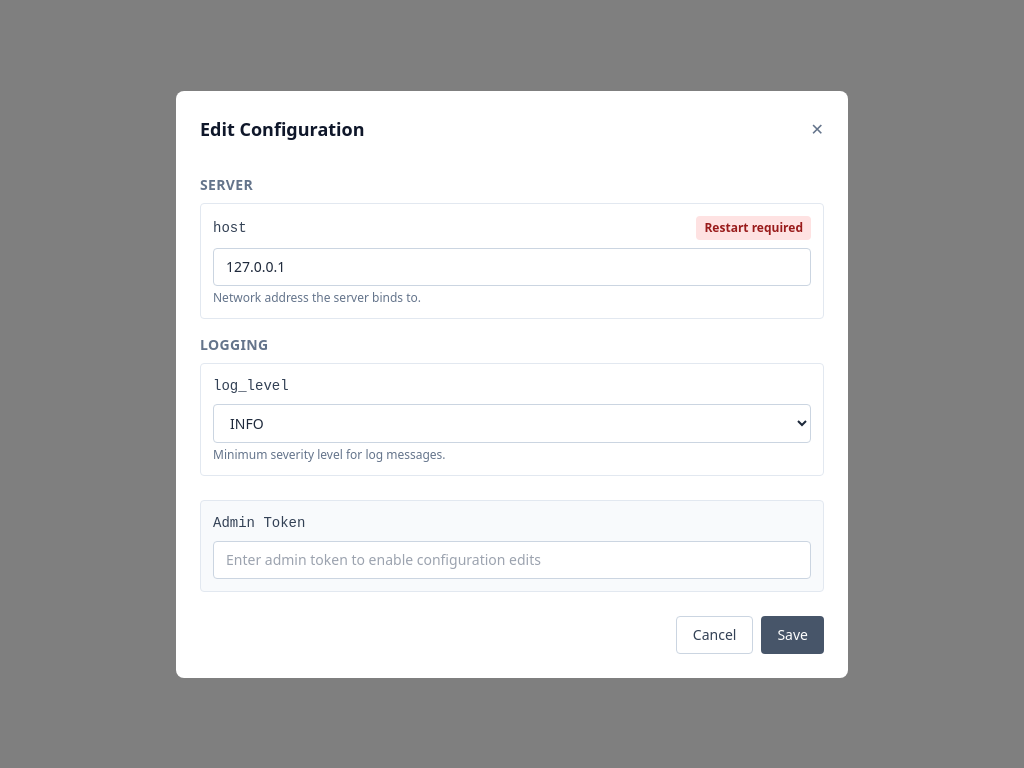
Test: ConfigModal › saves the full field map with the admin token header, and retains values without refetching
Replace the text in the field showing "127.0.0.1" with "10.0.0.9" at (512, 266), box top-left (213, 248), bottom-right (811, 286)
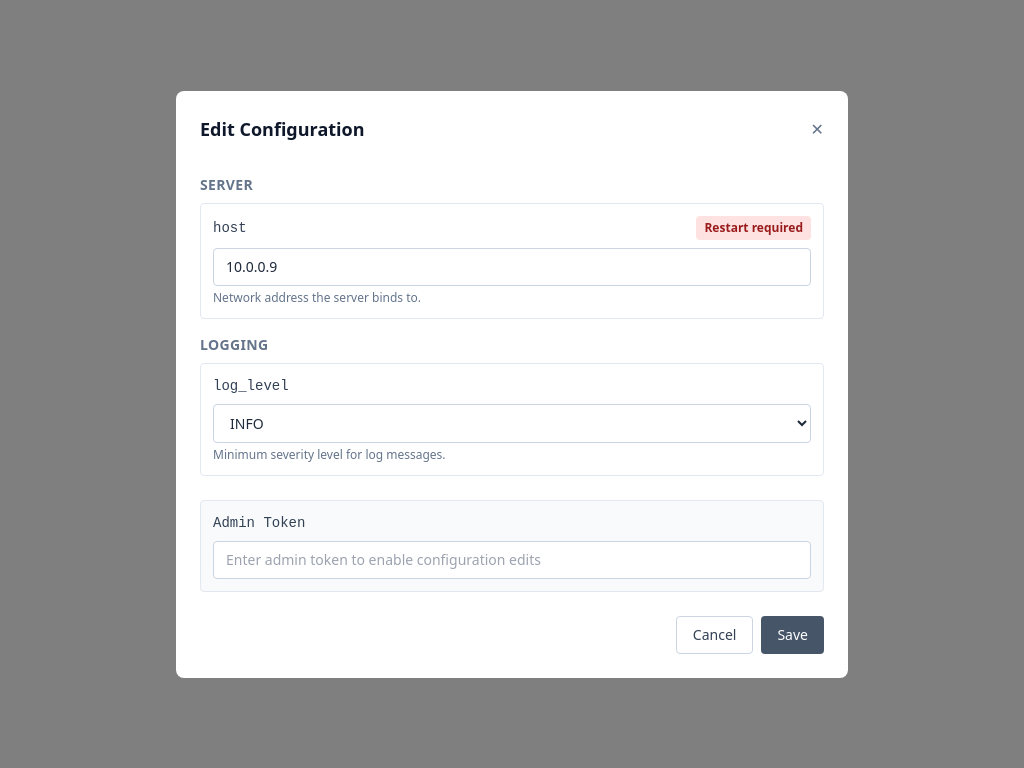
Type "sekret" into the password field with placeholder "Enter admin token to enable configuration edits" at (512, 560), box top-left (213, 540), bottom-right (811, 578)
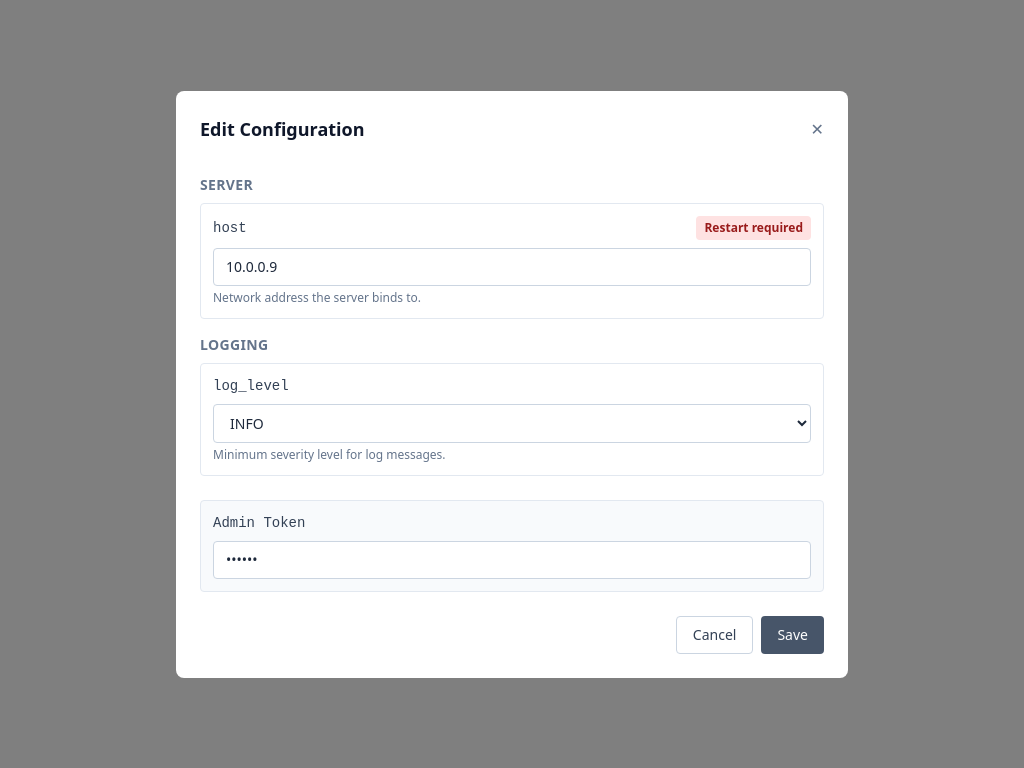
Click the button "Save" at (793, 634), box top-left (761, 616), bottom-right (824, 654)
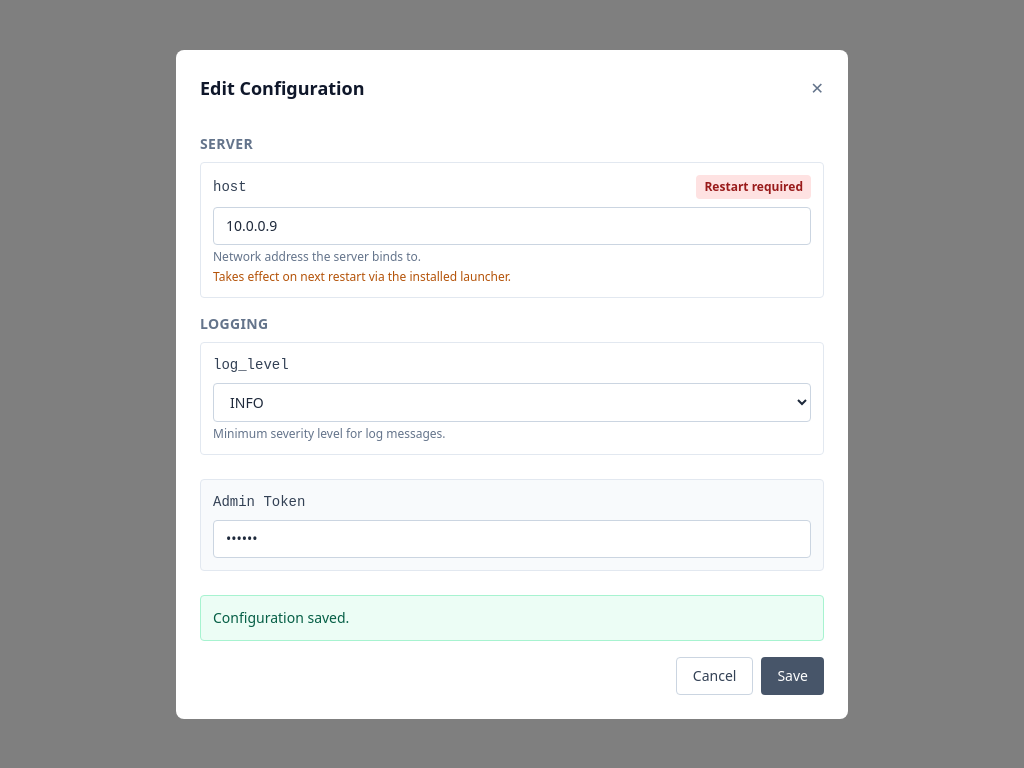
Now the text "Configuration saved." is shown, box top-left (200, 594), bottom-right (824, 640)
Now the text "Takes effect on next restart via the installed launcher." is shown, box top-left (213, 268), bottom-right (511, 284)
